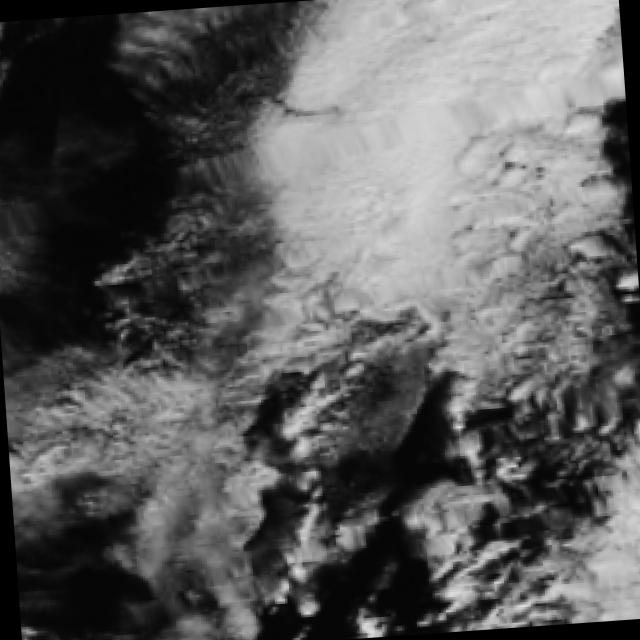CB: (298, 84, 520, 270), (337, 0, 578, 135)
